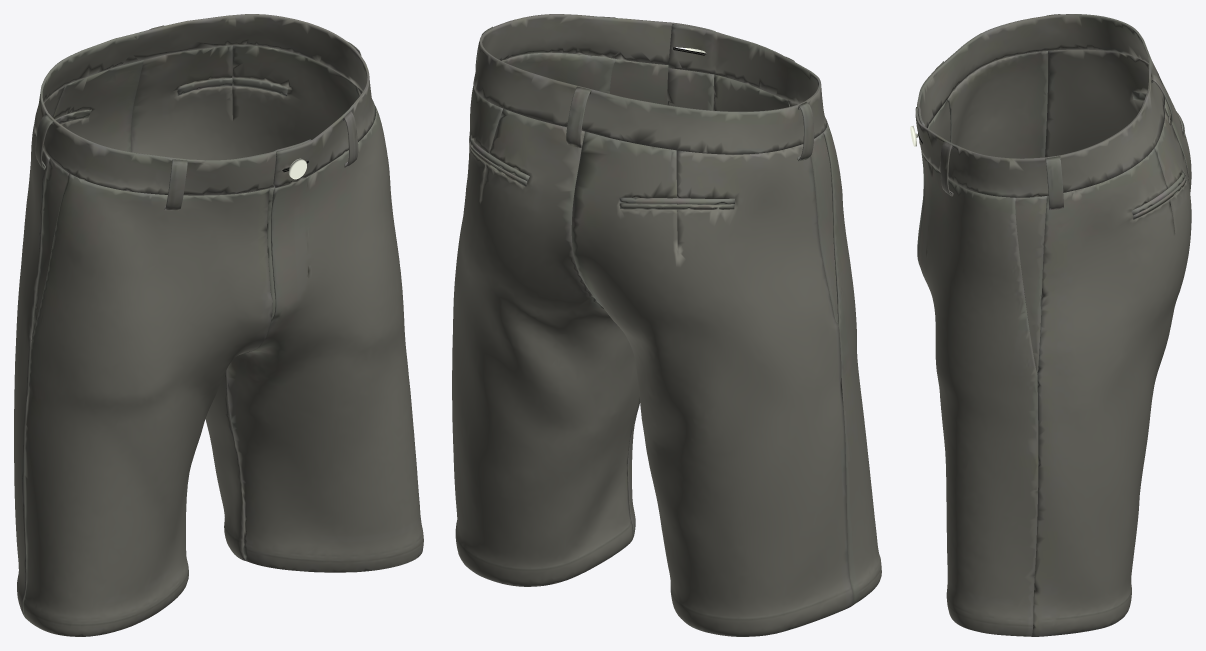
File: men_trouser_without_zip-optimized_1783504218937.glb
3 renders of one model, left to right at view 1: azimuth 30°, elevation 25°; view 2: azimuth 150°, elevation 25°; view 3: azimuth 270°, elevation 25°, orthographic. The views are drawn at different scales.
Parts seen in each view (by area): view 1: Men Suit Short Pant; view 2: Men Suit Short Pant; view 3: Men Suit Short Pant.
Part boxes in pixels (x1=…): Men Suit Short Pant: x1=14, y1=14, x2=423, y2=636; Men Suit Short Pant: x1=452, y1=14, x2=881, y2=636; Men Suit Short Pant: x1=915, y1=14, x2=1191, y2=636.
Size of the model in its own units: 0.5262 by 0.6746 by 0.3532.
Materials: 2 (1 with a texture image).
